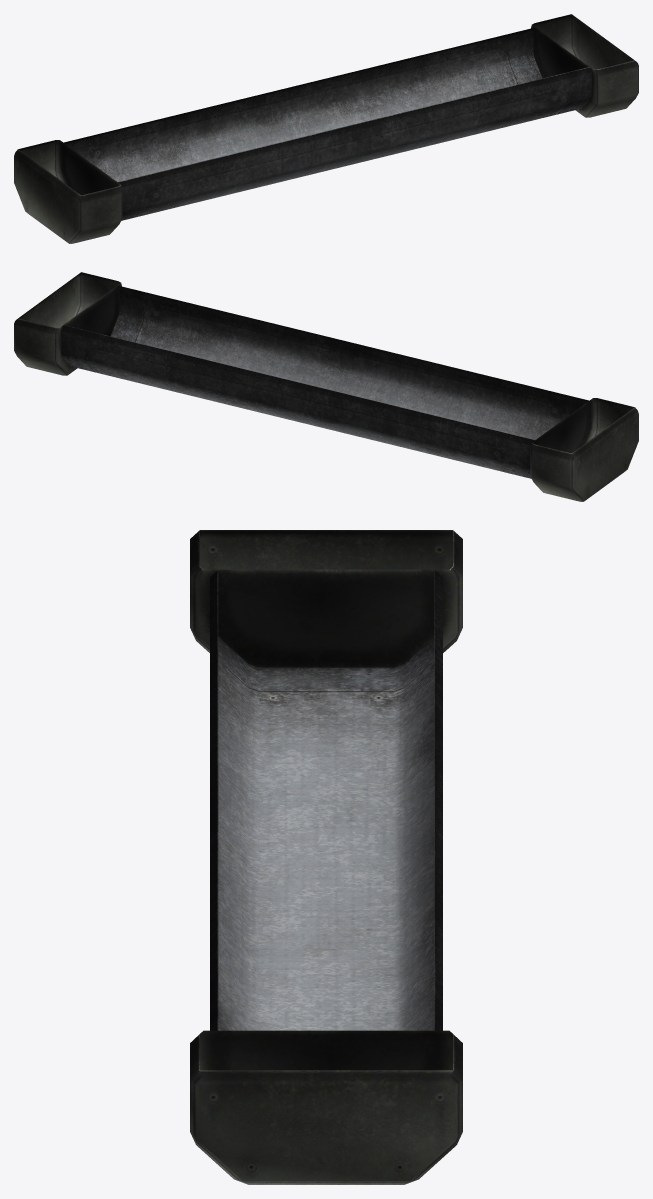
Rendered from fluorescent_subway_ceiling.dae.
3 renders of one model, top to bottom at view 1: azimuth 30°, elevation 25°; view 2: azimuth 150°, elevation 25°; view 3: azimuth 270°, elevation 25°, orthographic. The views are drawn at different scales.
Visible parts, largest first — view 1: polySurface90; view 2: polySurface90; view 3: polySurface90.
Boxes of the visible parts, x1=… form: polySurface90: x1=14, y1=14, x2=638, y2=243; polySurface90: x1=14, y1=272, x2=638, y2=501; polySurface90: x1=190, y1=530, x2=462, y2=1184.
Size of the model in its own units: 1.25 by 0.122 by 0.2632.
